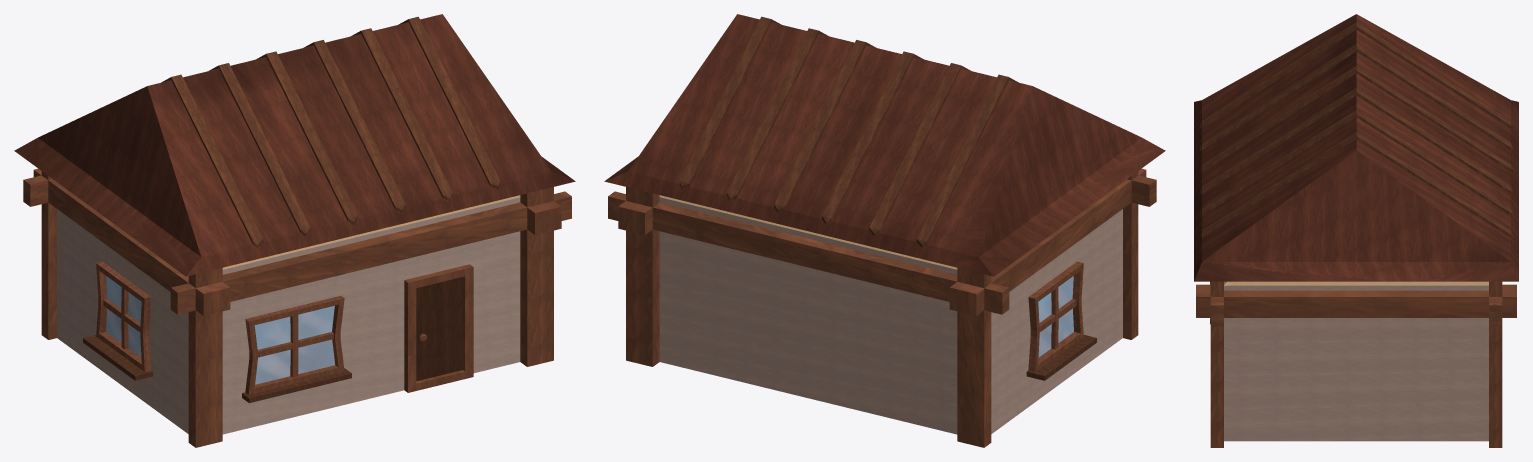
File: house.fbx
3 renders of one model, left to right at view 1: azimuth 30°, elevation 25°; view 2: azimuth 150°, elevation 25°; view 3: azimuth 270°, elevation 25°, orthographic. The views are drawn at different scales.
Parts seen in each view (by area): view 1: cottage; view 2: cottage; view 3: cottage.
Part boxes in pixels (x1,y1,x2,y2): cottage: (14, 14, 575, 447); cottage: (604, 14, 1165, 447); cottage: (1194, 14, 1518, 447).
Size of the model in its own units: 884 by 645 by 667.
Materials: 1 (1 with a texture image).
